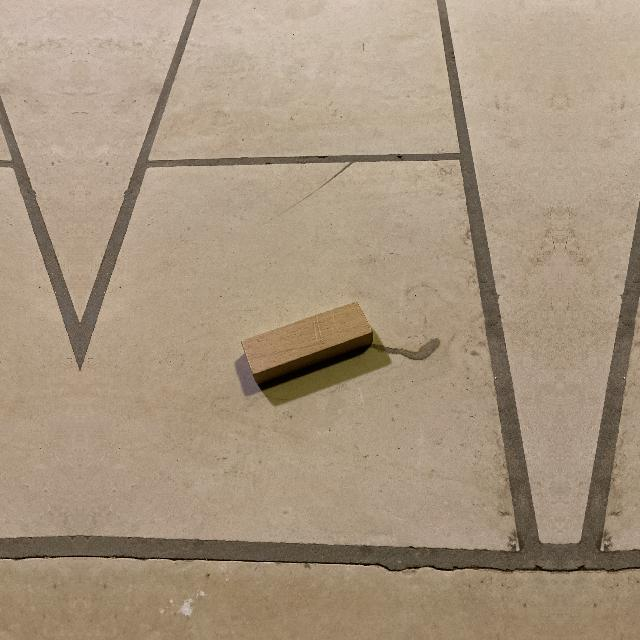jenga: (241, 303, 376, 391)
